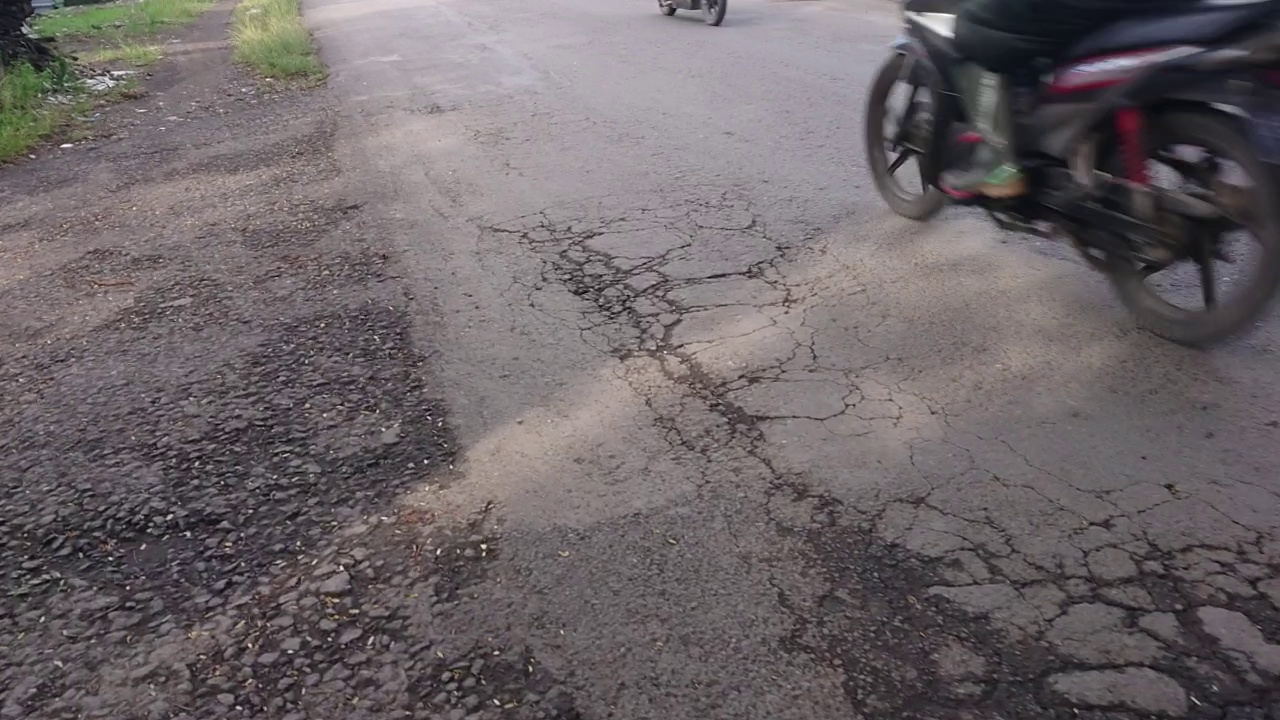Retak: (813, 515, 1278, 717), (549, 241, 808, 465)
